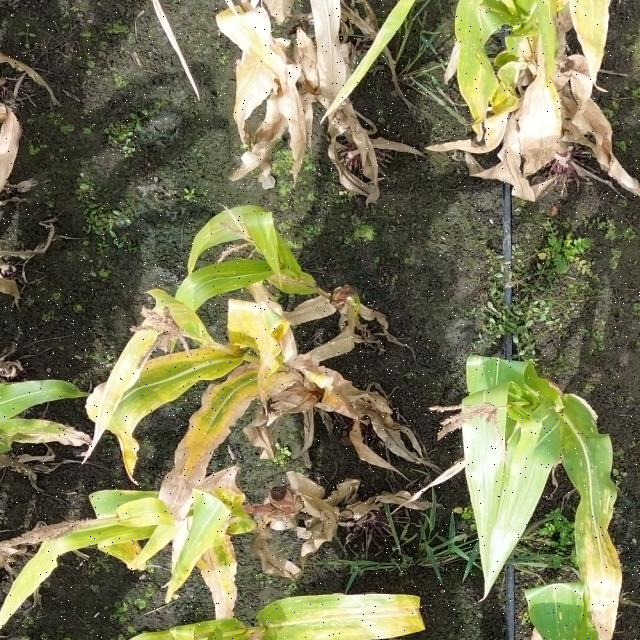gray-leaf-spot: (558, 438, 640, 640), (277, 592, 435, 640)
northern-leaf-blight: (110, 347, 268, 458), (165, 518, 250, 638)
southern-leaf-blight: (455, 35, 498, 125)
